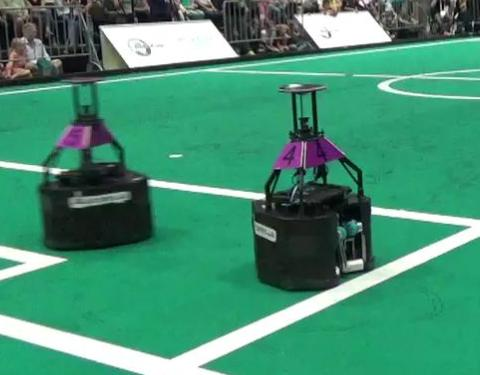robot: (247, 81, 379, 294), (35, 72, 164, 253)
